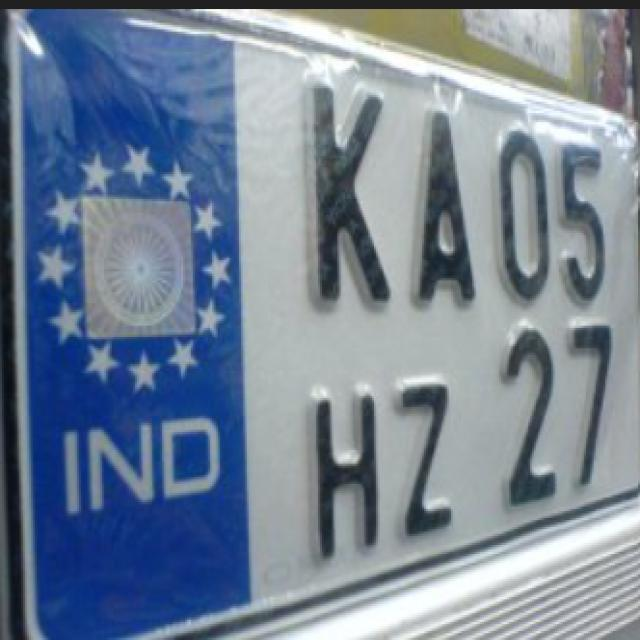0: (487, 104, 555, 312)
5: (557, 130, 615, 309)
7: (567, 314, 620, 495)
A: (414, 94, 490, 320)
H: (304, 374, 387, 569)
K: (299, 71, 405, 320)
Z: (392, 363, 463, 549)
